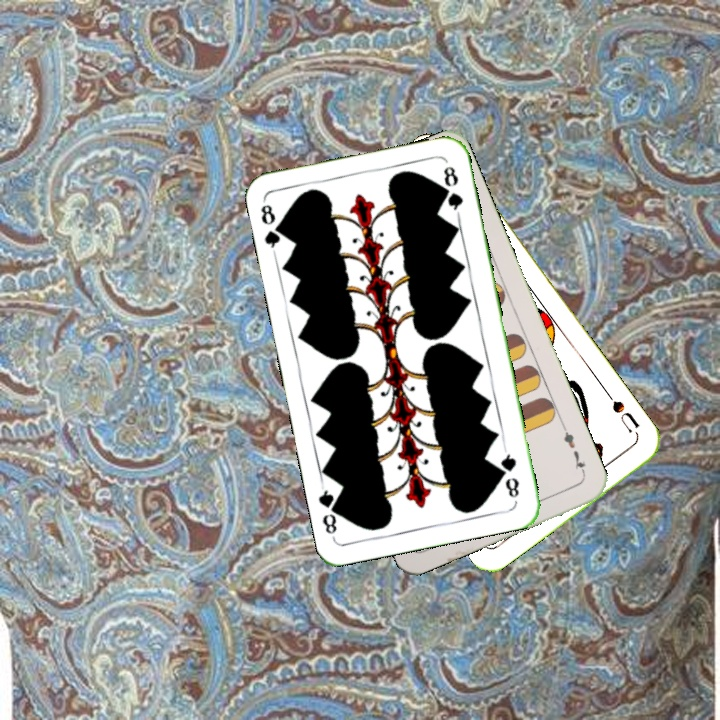E7: (558, 422, 589, 478)
G8: (256, 198, 288, 256), (497, 450, 522, 501)
SU: (601, 387, 642, 439)
